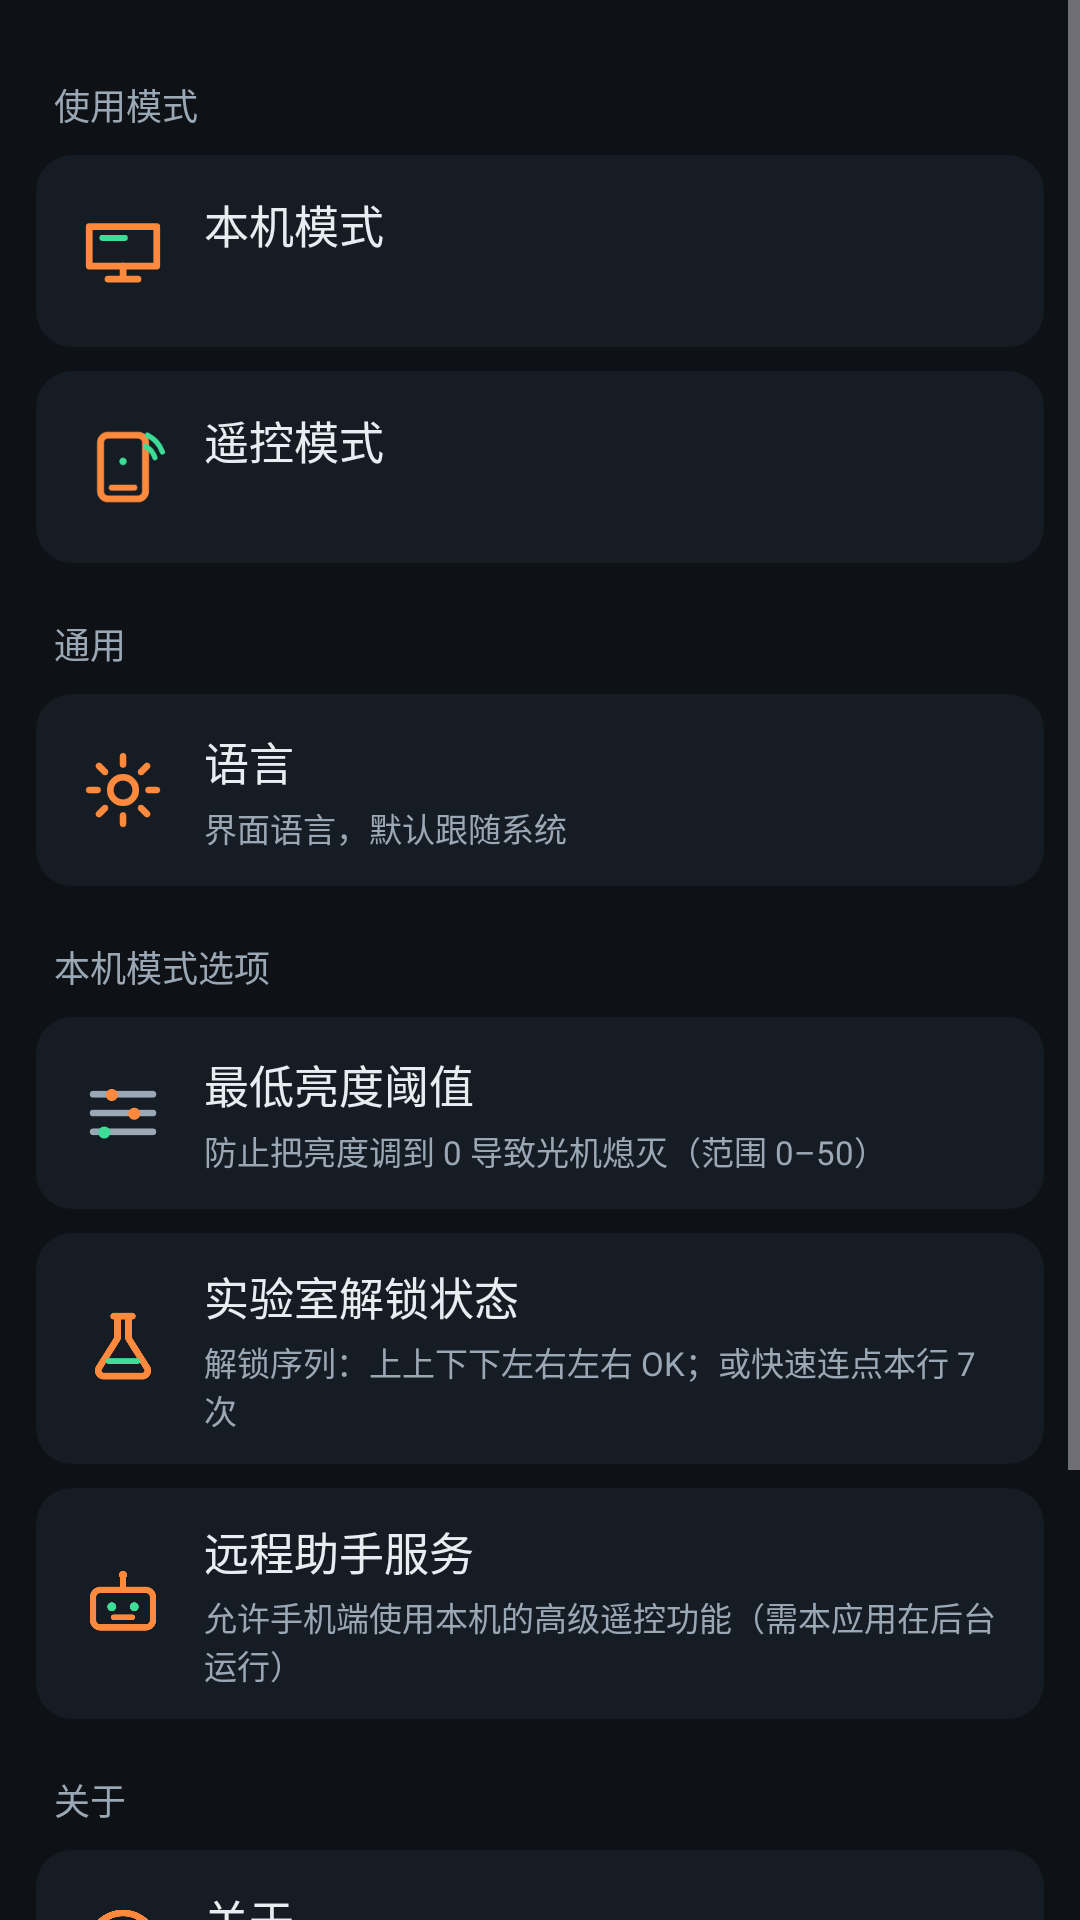

Icon click points for this 1080×1920 phone screenshot, format (x=x, y=y):
agent: (x=123, y=1601)
lab: (x=123, y=1346)
local: (x=123, y=253)
remote: (x=131, y=467)
